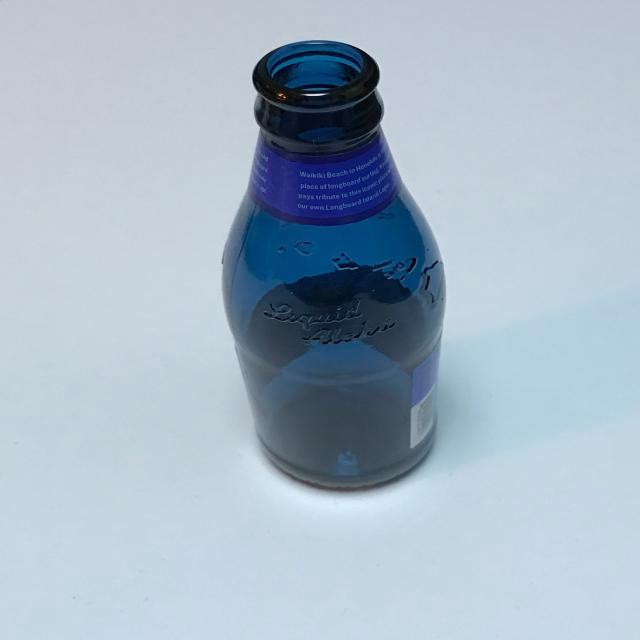glass: (219, 36, 450, 495)
